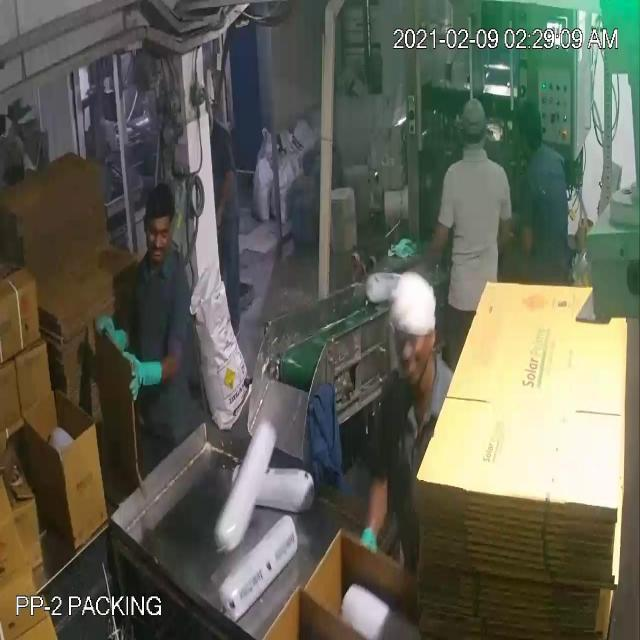Gloves: (29, 47, 434, 371)
